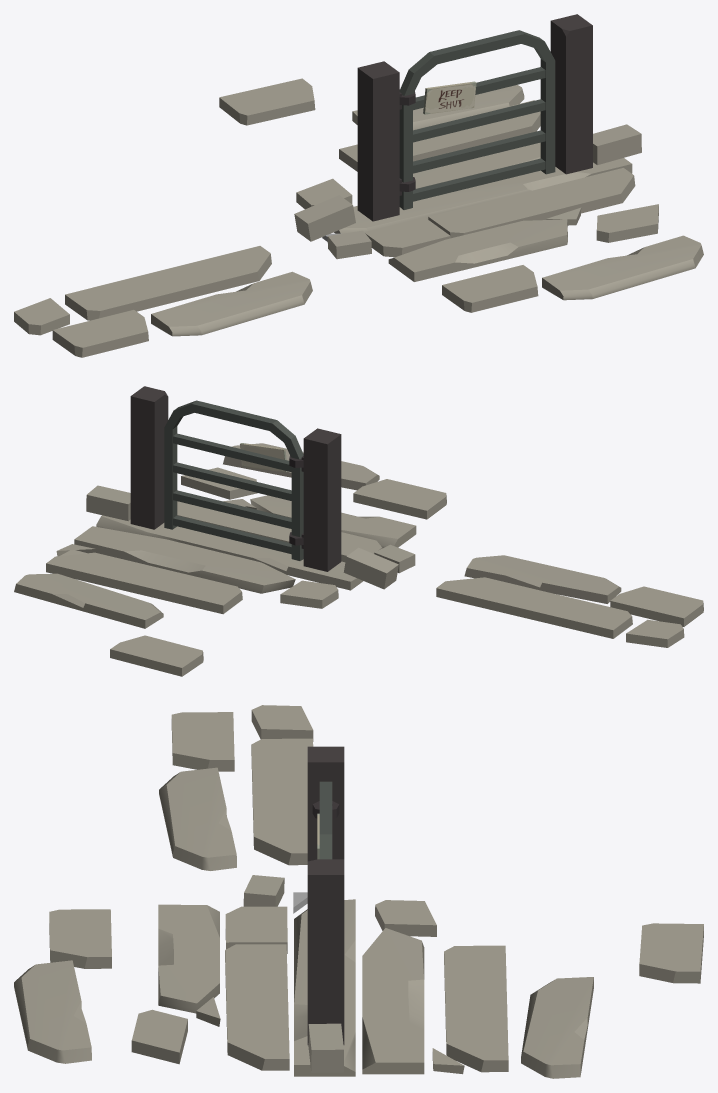
Rendered from gate_shut.fbx.
The picture shows the model from 3 angles, top to bottom: view 1: azimuth 30°, elevation 25°; view 2: azimuth 150°, elevation 25°; view 3: azimuth 270°, elevation 25°; orthographic projection. The views are drawn at different scales.
Parts seen in each view (by area): view 1: gate_ground, gate_door, path_long, path_mid, path_short, path_small; view 2: gate_ground, gate_door, path_long, path_mid, path_short, path_small; view 3: gate_ground, path_long, path_mid, path_short, path_small, gate_door.
Part boxes in pixels (x1,y1,x2,y2): gate_ground: [219, 14, 703, 312]; gate_door: [399, 30, 555, 209]; path_long: [65, 246, 271, 320]; path_mid: [151, 271, 312, 336]; path_short: [52, 310, 148, 357]; path_small: [14, 298, 69, 335]; gate_ground: [14, 386, 446, 676]; gate_door: [164, 400, 303, 560]; path_long: [436, 577, 632, 638]; path_mid: [464, 555, 621, 603]; path_short: [610, 586, 703, 626]; path_small: [626, 619, 684, 647]; gate_ground: [14, 746, 703, 1078]; path_long: [251, 738, 313, 865]; path_mid: [159, 767, 236, 870]; path_short: [171, 712, 234, 771]; path_small: [251, 705, 313, 741]; gate_door: [317, 781, 332, 859].
Size of the model in its own units: 649 by 154 by 511.
